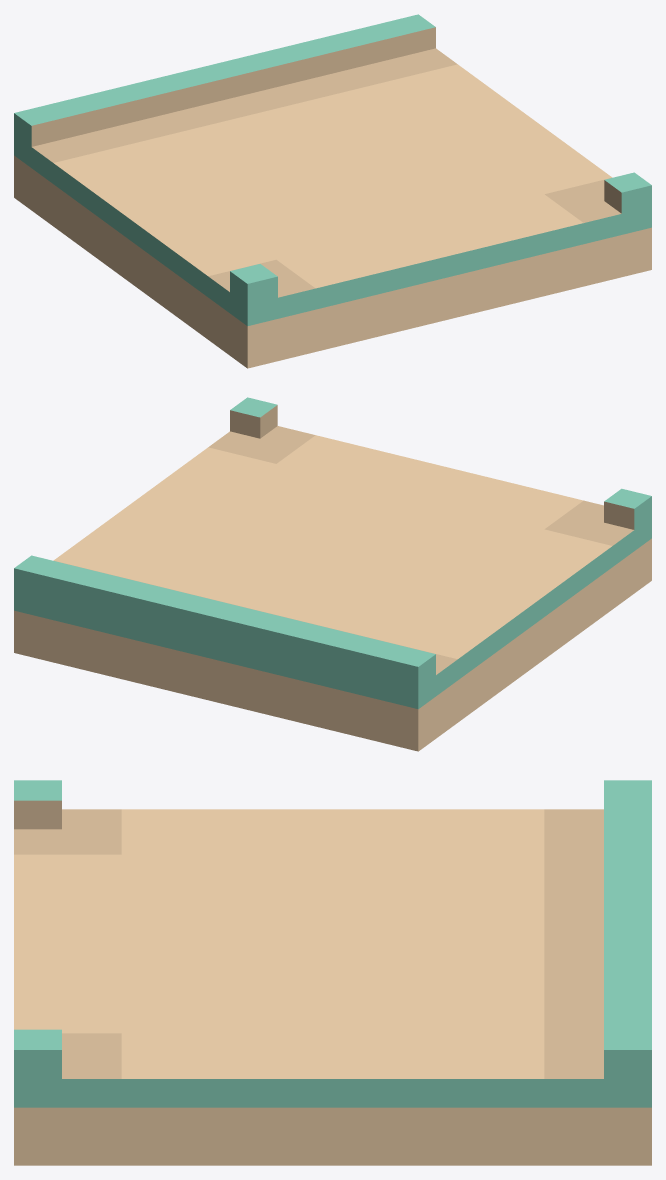
File: tile_split.fbx
The picture shows the model from 3 angles, top to bottom: view 1: azimuth 30°, elevation 25°; view 2: azimuth 150°, elevation 25°; view 3: azimuth 270°, elevation 25°; orthographic projection. The views are drawn at different scales.
Parts seen in each view (by area): view 1: Cube; view 2: Cube; view 3: Cube.
Part boxes in pixels (x1,y1,x2,y2): Cube: [14, 14, 651, 368]; Cube: [14, 397, 651, 751]; Cube: [14, 780, 651, 1165].
Bounding box in the file's own units: 100 × 20 × 100.
